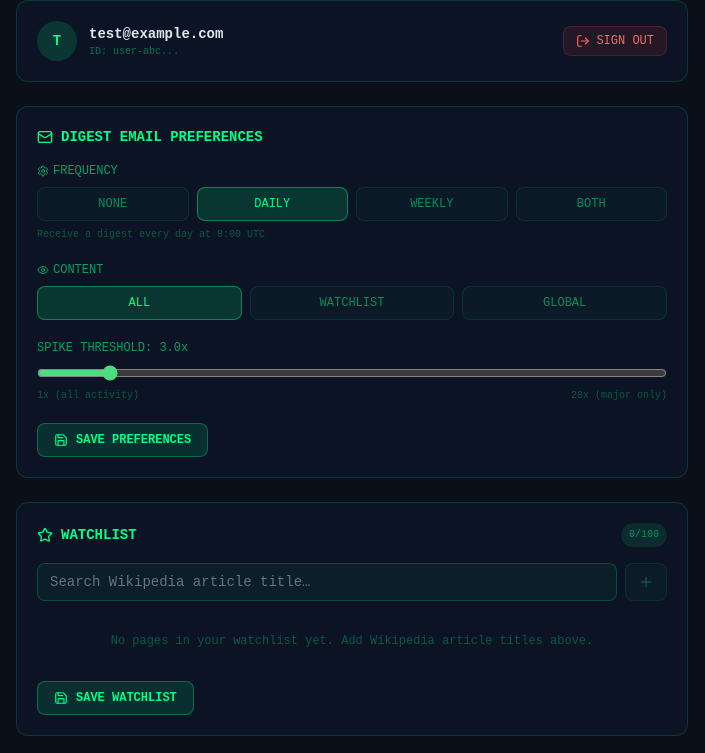
Scenario: SettingsPanel – watchlist autocomplete › adds a suggestion to the watchlist when clicked
Type "Bit" into the field with placeholder "Search Wikipedia article title…" at (327, 582), box [37,563,617,601]
Wait 300 ms
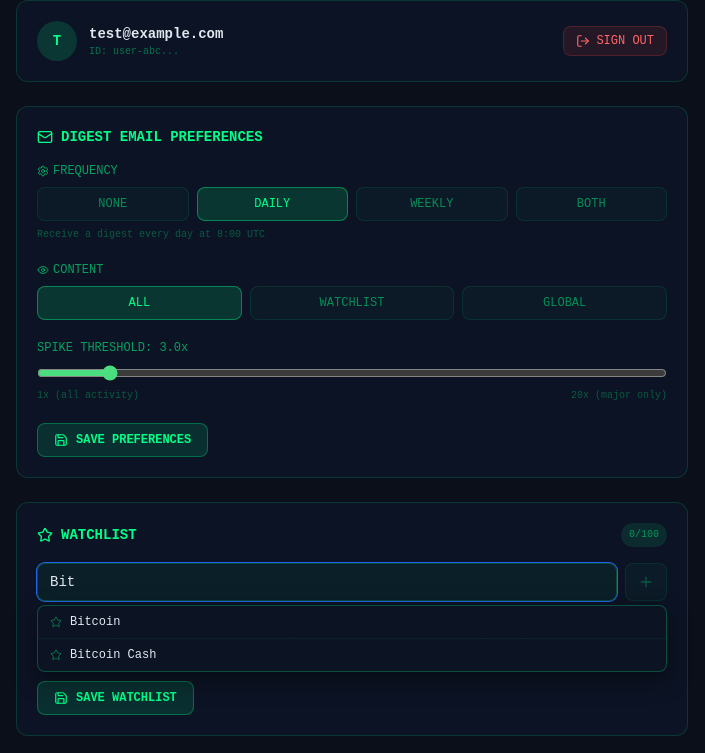
Check: the text "Bitcoin" is shown
Click the text "Bitcoin" at (95, 622), box [70,614,120,630]
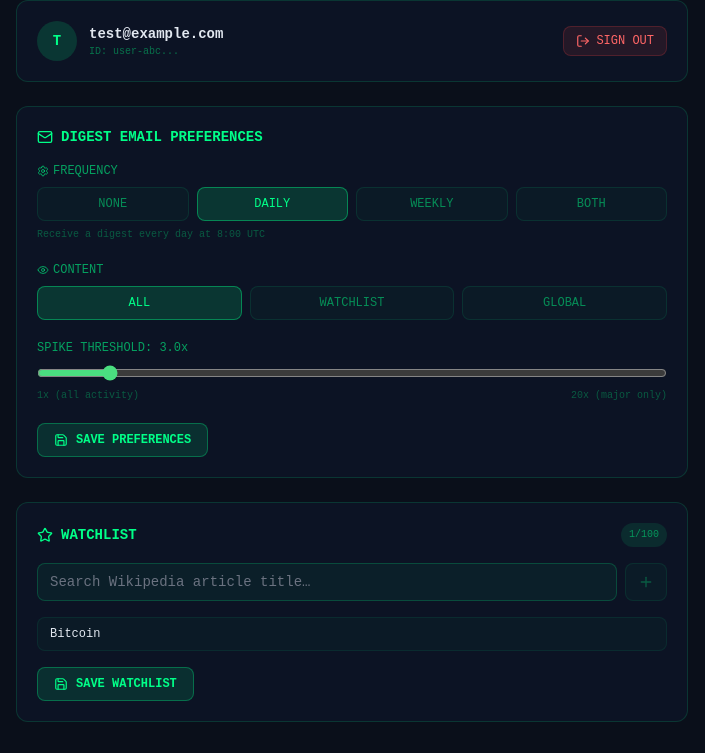
Check: the text "Bitcoin" is shown, box [50,626,100,642]
Check: the field with placeholder "Search Wikipedia article title…" is empty, box [37,563,617,601]
Check: the text "Bitcoin Cash" is gone
